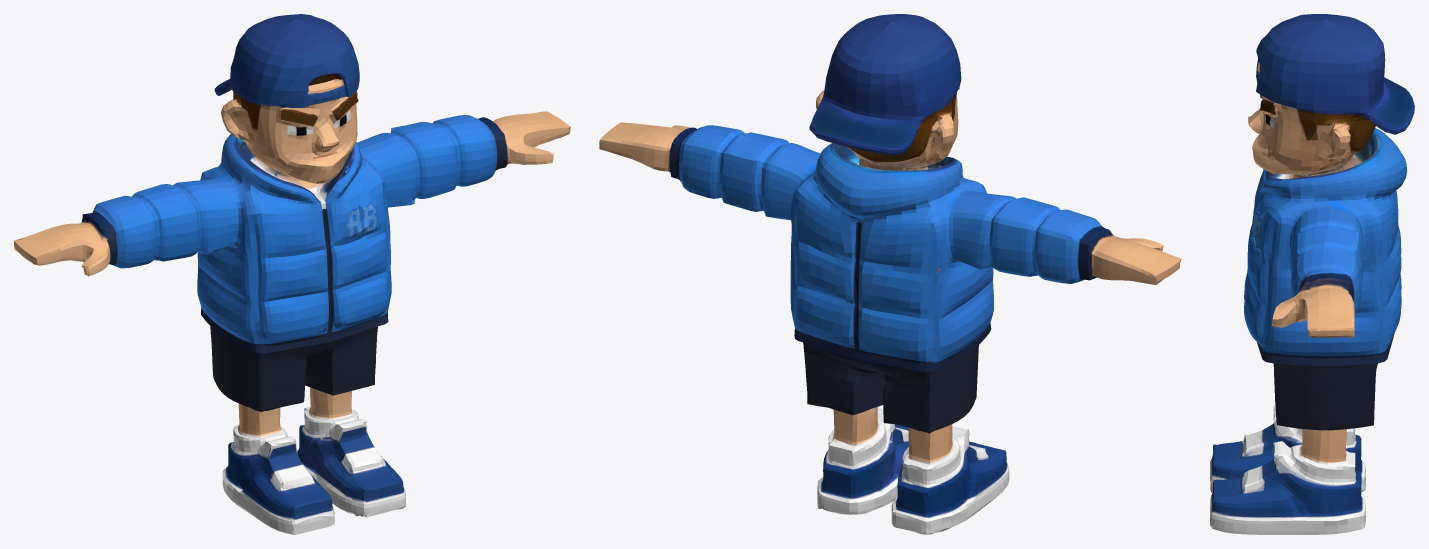
The model's file is Meshy_AI_T_Pose_in_Graffiti_Al_0601001314_texture.obj.
The picture shows the model from 3 angles, left to right: view 1: azimuth 30°, elevation 25°; view 2: azimuth 150°, elevation 25°; view 3: azimuth 270°, elevation 25°; orthographic projection. The views are drawn at different scales.
Visible parts, largest first — view 1: Meshy_AI_T_Pose_in_Graffiti_Al_0601001314_texture; view 2: Meshy_AI_T_Pose_in_Graffiti_Al_0601001314_texture; view 3: Meshy_AI_T_Pose_in_Graffiti_Al_0601001314_texture.
Boxes of the visible parts, bbox=[...] form: Meshy_AI_T_Pose_in_Graffiti_Al_0601001314_texture: bbox=[14, 14, 570, 534]; Meshy_AI_T_Pose_in_Graffiti_Al_0601001314_texture: bbox=[599, 14, 1181, 534]; Meshy_AI_T_Pose_in_Graffiti_Al_0601001314_texture: bbox=[1210, 14, 1414, 534].
Size of the model in its own units: 1.91 by 1.58 by 0.6059.
1 material, 1 textured.
